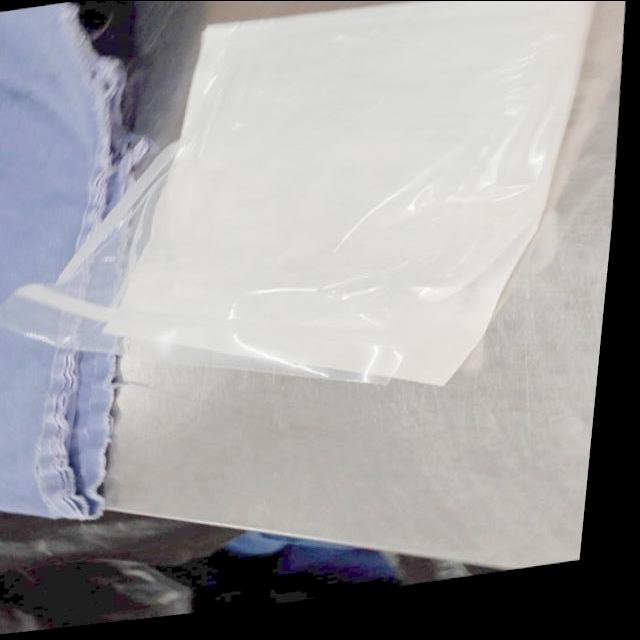General: (0, 1, 151, 523)
Infectious: (3, 0, 596, 388)
